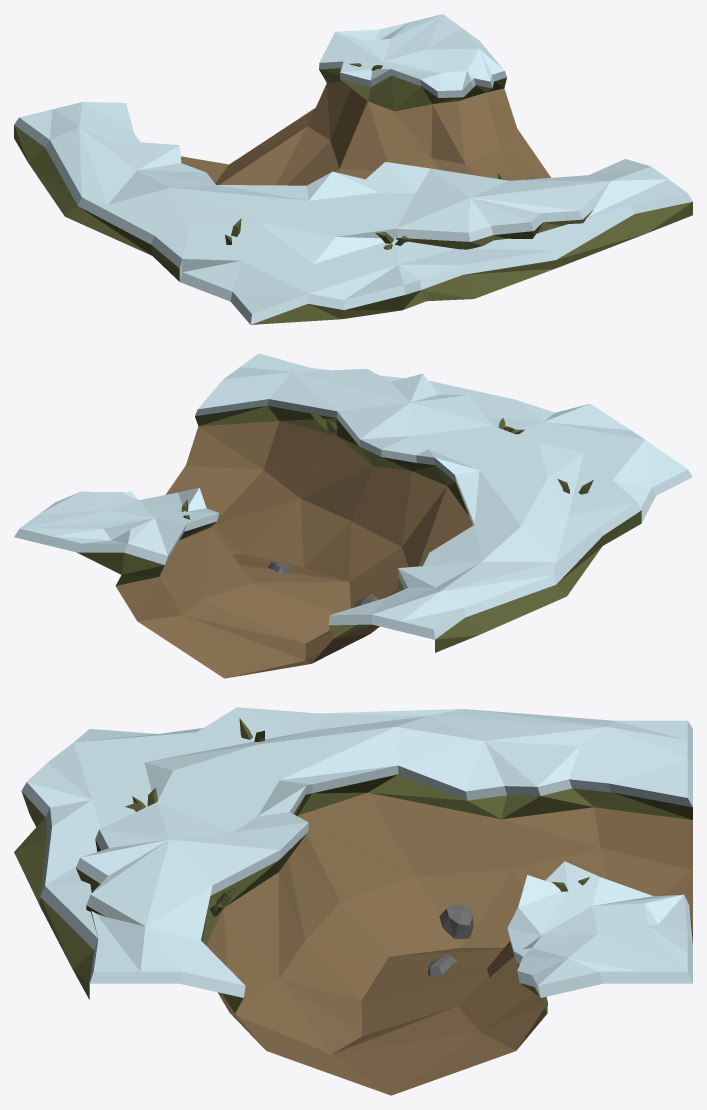
The model's file is adventure_SM_Env_Stream_Corner_01_Snow.gltf.
3 renders of one model, top to bottom at view 1: azimuth 30°, elevation 25°; view 2: azimuth 150°, elevation 25°; view 3: azimuth 270°, elevation 25°, orthographic. The views are drawn at different scales.
Parts seen in each view (by area): view 1: SM_Env_Stream_Corner_01_Snow; view 2: SM_Env_Stream_Corner_01_Snow; view 3: SM_Env_Stream_Corner_01_Snow.
Boxes of the visible parts, x1,y1,x2,y2 form: SM_Env_Stream_Corner_01_Snow: [14, 14, 692, 324]; SM_Env_Stream_Corner_01_Snow: [14, 353, 692, 678]; SM_Env_Stream_Corner_01_Snow: [14, 707, 692, 1095].
Size of the model in its own units: 5.49 by 1.37 by 5.63.
1 material, 1 textured.
